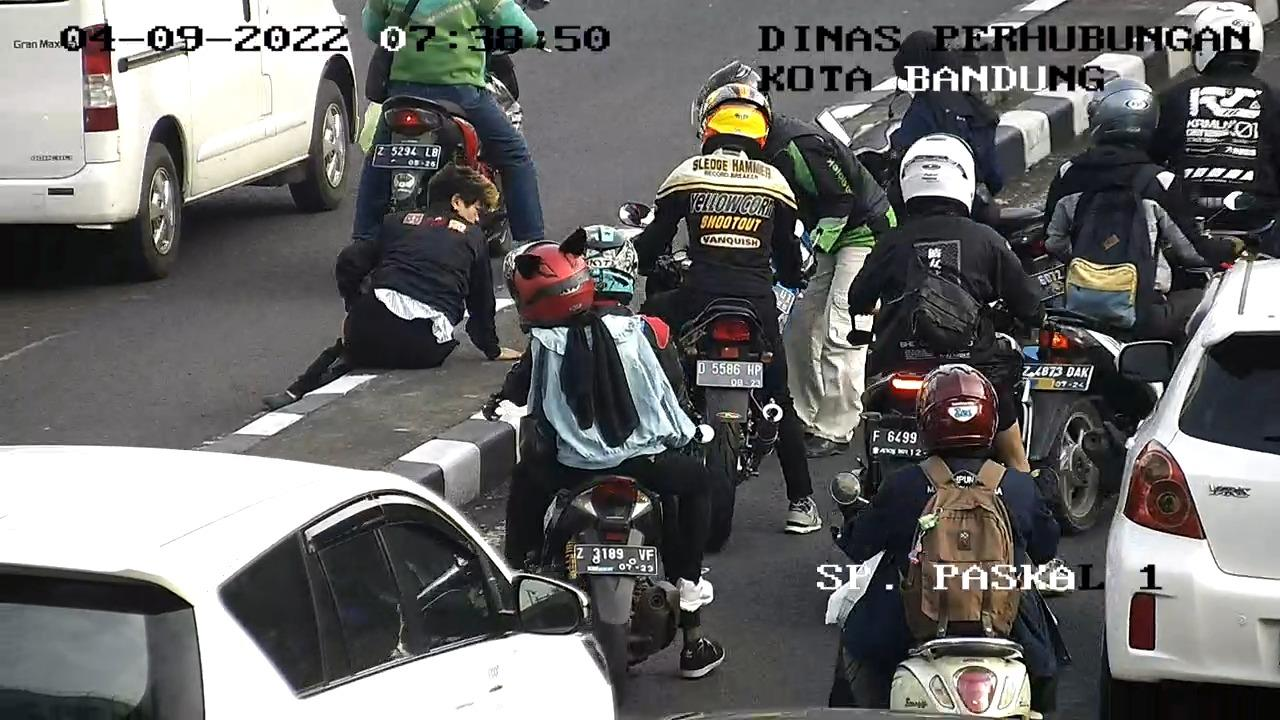accident: (246, 162, 533, 419)
